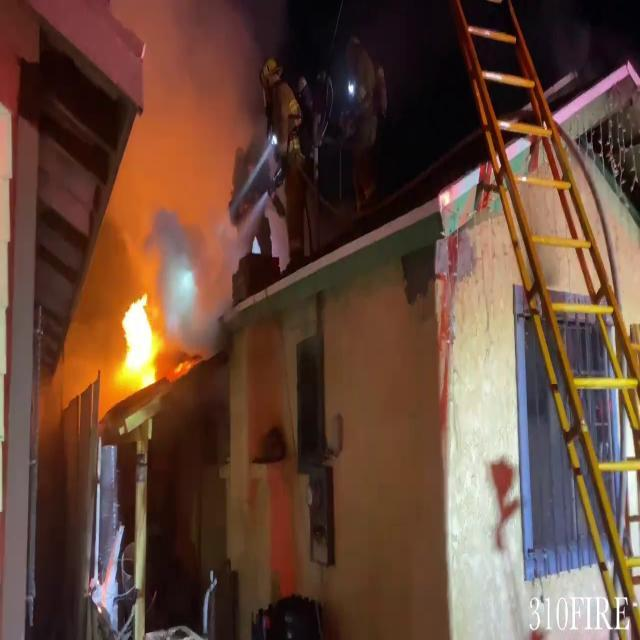Fire: (114, 285, 166, 393)
Smoke: (93, 0, 272, 284)
